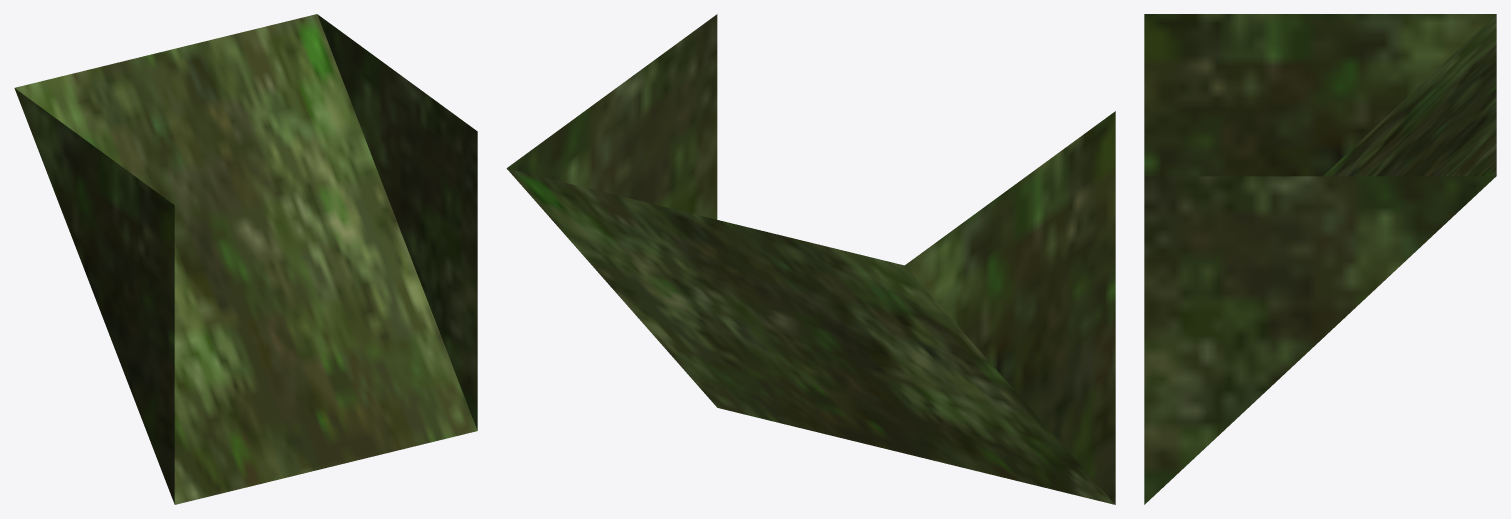
File: OVERHILL_A_01_STONE_BLOCK_19.fbx
3 renders of one model, left to right at view 1: azimuth 30°, elevation 25°; view 2: azimuth 150°, elevation 25°; view 3: azimuth 270°, elevation 25°, orthographic. The views are drawn at different scales.
Visible parts, largest first — view 1: OVERHILL_A_01_STONE_BLOCK_19; view 2: OVERHILL_A_01_STONE_BLOCK_19; view 3: OVERHILL_A_01_STONE_BLOCK_19.
Boxes of the visible parts, left/top/right/bottom form: OVERHILL_A_01_STONE_BLOCK_19: left=14, top=14, right=477, bottom=504; OVERHILL_A_01_STONE_BLOCK_19: left=506, top=14, right=1115, bottom=504; OVERHILL_A_01_STONE_BLOCK_19: left=1144, top=14, right=1496, bottom=504.
Size of the model in its own units: 8369 by 7913 by 7681.
Materials: 1 (1 with a texture image).
